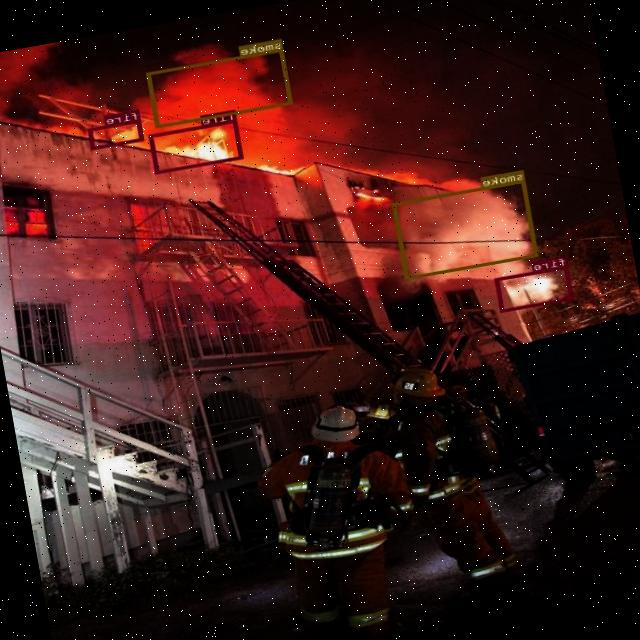fire: (150, 118, 243, 174), (495, 264, 574, 310), (88, 118, 144, 148)
smoke: (392, 180, 539, 278), (146, 48, 294, 127)
